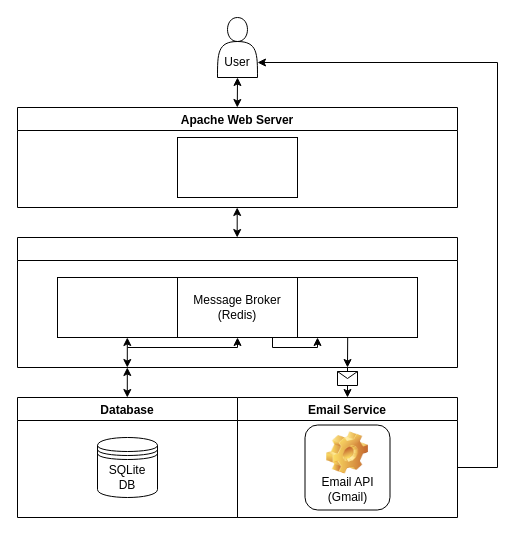
Some shapes in this 523 by 535 pixel diagram are drawn without their labels. Here are the shapes that lost their labels. From the top down, the box of each, then its label:
(176, 136, 298, 198): FrontEnd
(56, 276, 178, 338): Web Services
(16, 236, 458, 368): Backend(Django)
(296, 276, 418, 338): Task Scheduler (Celery)
